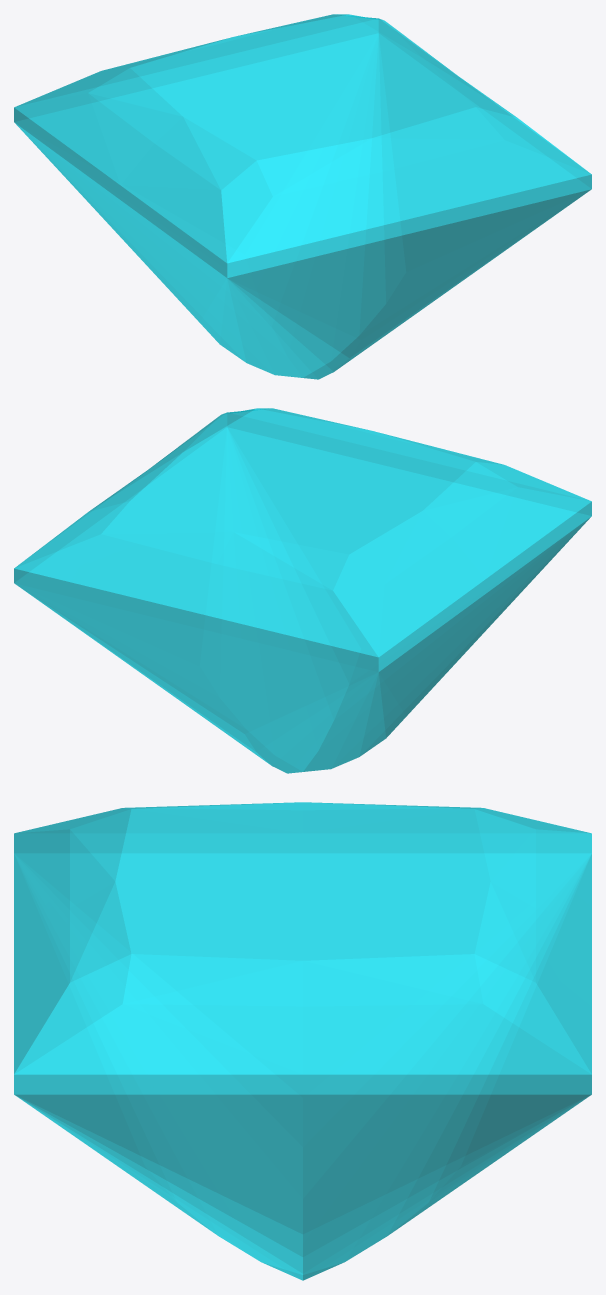
Rendered from princess aquamarine.glb.
3 renders of one model, top to bottom at view 1: azimuth 30°, elevation 25°; view 2: azimuth 150°, elevation 25°; view 3: azimuth 270°, elevation 25°, orthographic. The views are drawn at different scales.
Parts seen in each view (by area): view 1: Princess; view 2: Princess; view 3: Princess.
Part boxes in pixels (<box>): Princess: <box>14,14,591,379</box>; Princess: <box>14,408,591,773</box>; Princess: <box>14,802,591,1280</box>.
Size of the model in its own units: 1.38 by 1.05 by 1.4.
